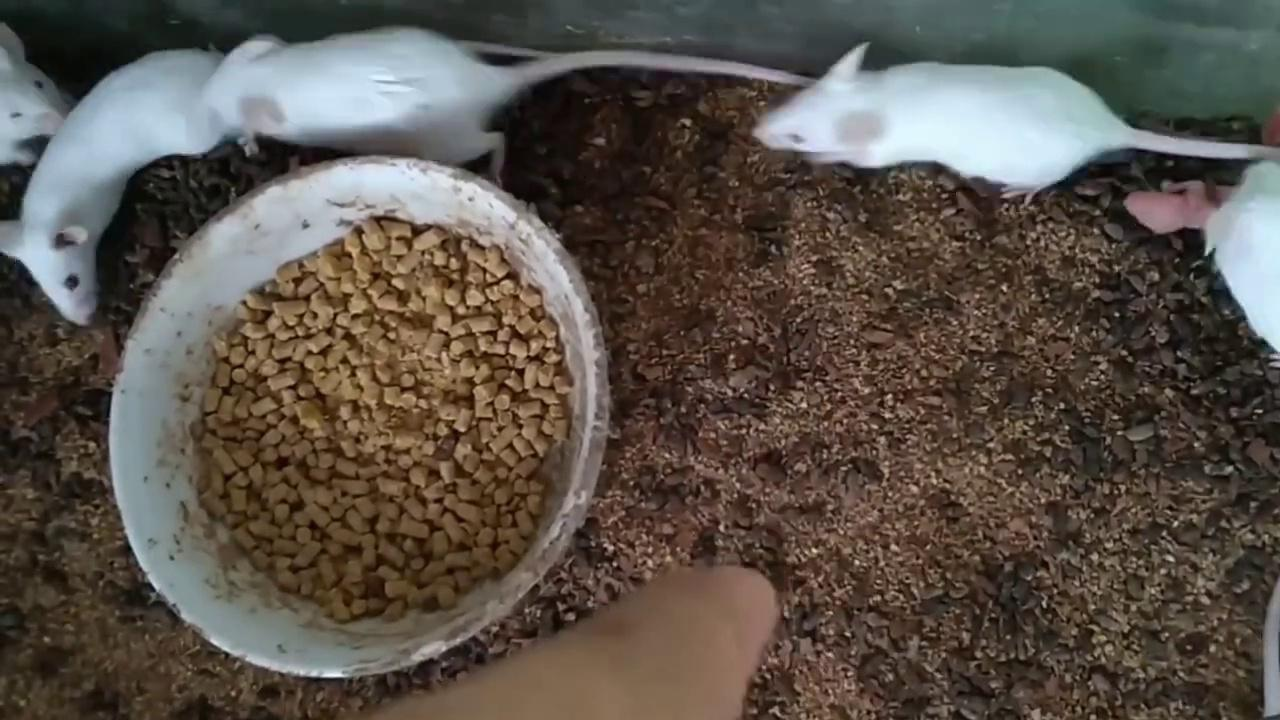rat: (205, 25, 820, 183), (751, 43, 1280, 204), (0, 47, 225, 325), (0, 22, 73, 165)
